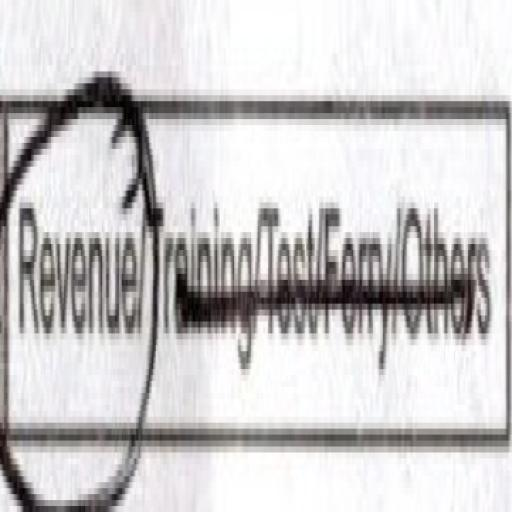check: (0, 18, 149, 512)
